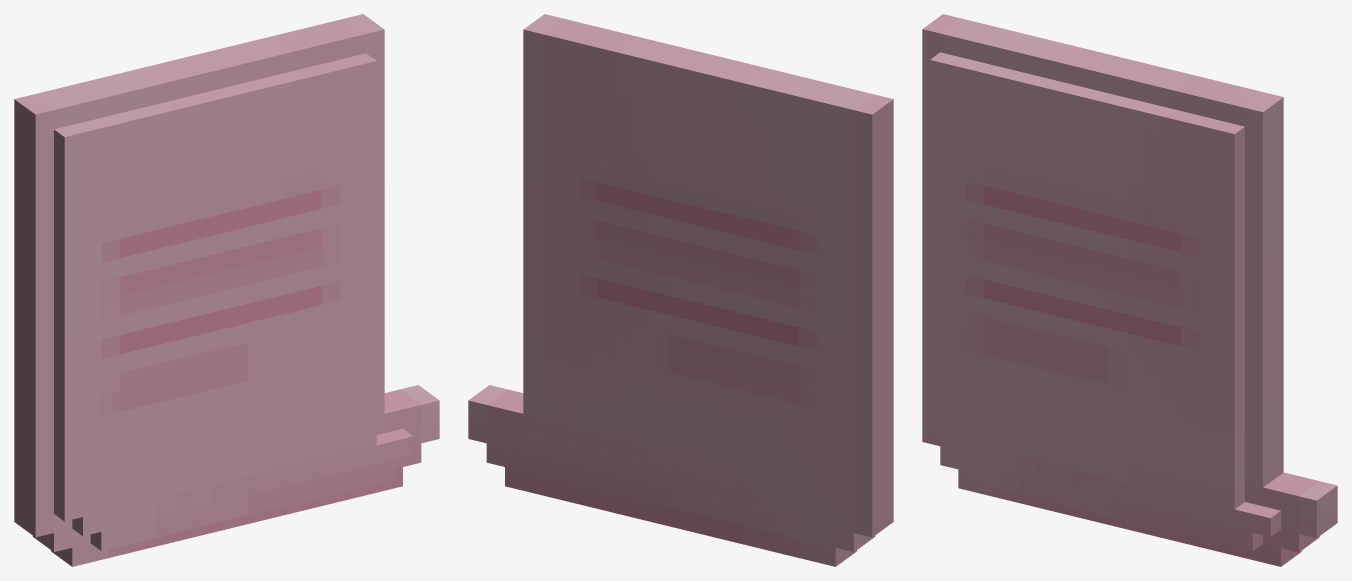
File: page-pink.glb
3 views of the same model, side by side, from view 1: azimuth 30°, elevation 25°; view 2: azimuth 150°, elevation 25°; view 3: azimuth 330°, elevation 25° (orthographic). The views are drawn at different scales.
Parts seen in each view (by area): view 1: prop; view 2: prop; view 3: prop.
Boxes of the visible parts, <box> form: prop: <box>14,14,439,566</box>; prop: <box>468,14,893,566</box>; prop: <box>922,14,1337,566</box>.
Bounding box in the file's own units: 14.67 × 16 × 2.
